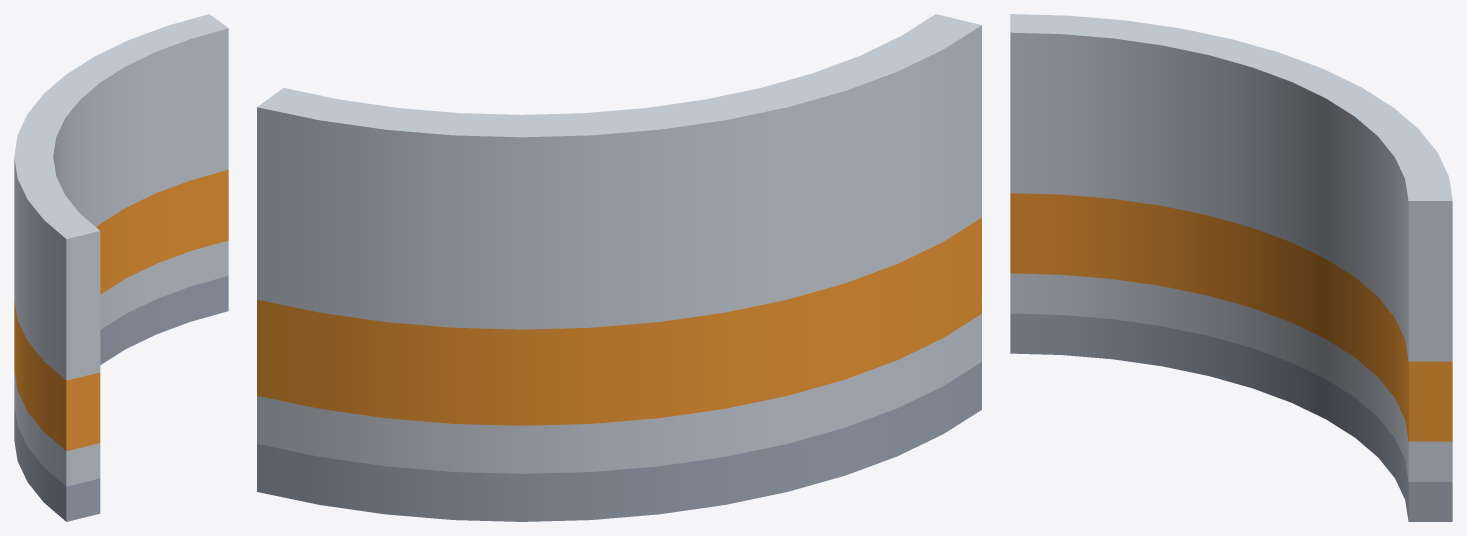
Rendered from corridor_wallCorner.obj.
3 renders of one model, left to right at view 1: azimuth 30°, elevation 25°; view 2: azimuth 150°, elevation 25°; view 3: azimuth 270°, elevation 25°, orthographic. The views are drawn at different scales.
Visible parts, largest first — view 1: corridor_wallCorner; view 2: corridor_wallCorner; view 3: corridor_wallCorner.
Part boxes in pixels (x1,y1,x2,y2): corridor_wallCorner: [14, 14, 228, 521]; corridor_wallCorner: [257, 14, 981, 521]; corridor_wallCorner: [1010, 14, 1452, 521].
Bounding box in the file's own units: 1 × 0.8 × 1.
